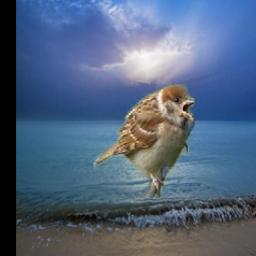Sparrow: (94, 82, 196, 198)
